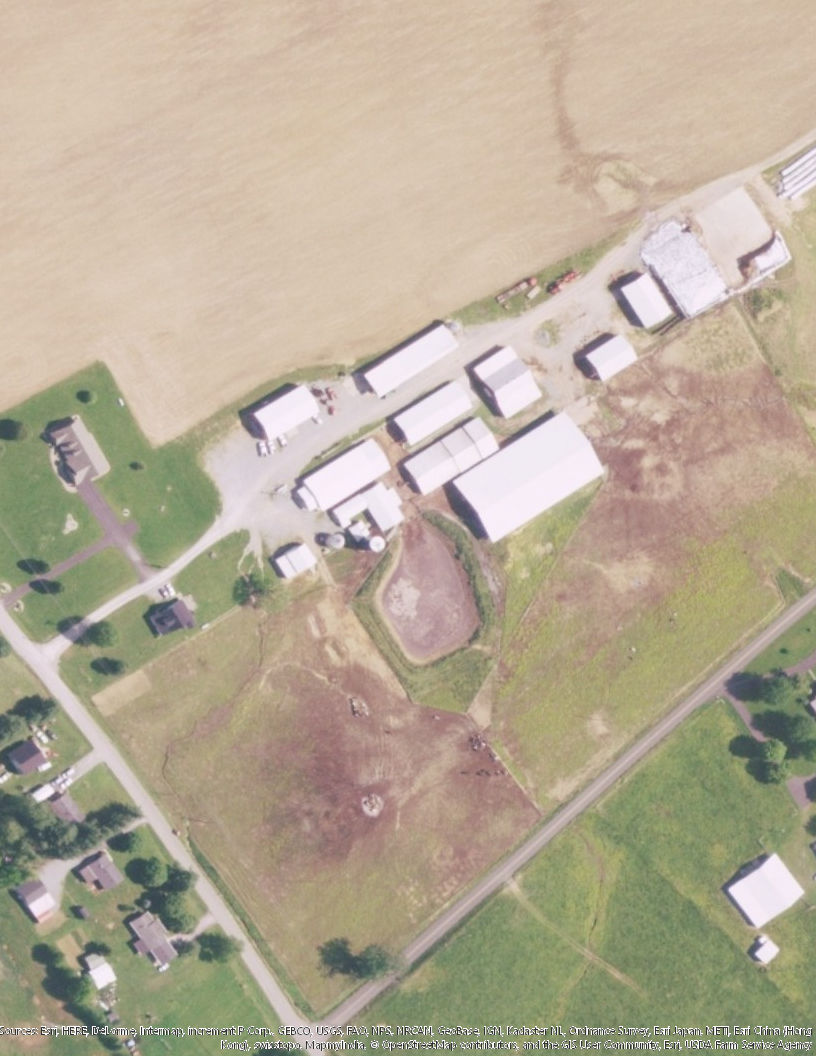cafo: (451, 411, 602, 543), (362, 319, 463, 398), (405, 413, 499, 494), (719, 848, 803, 934), (299, 437, 392, 514), (468, 344, 545, 421), (390, 378, 470, 445), (250, 380, 320, 440), (331, 484, 406, 539), (618, 268, 674, 328), (583, 335, 643, 383)
